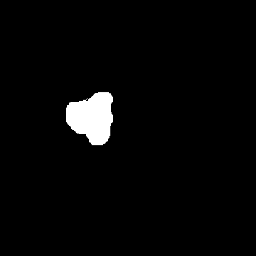mass: (60, 95, 113, 144)
